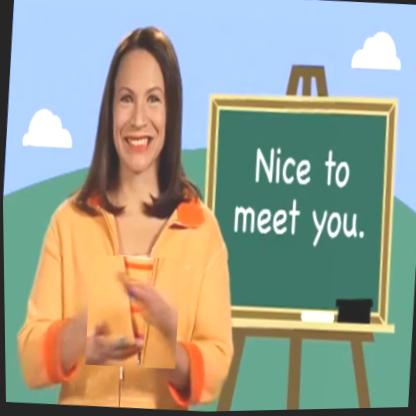NiceToMeetYou: (83, 253, 182, 371)
